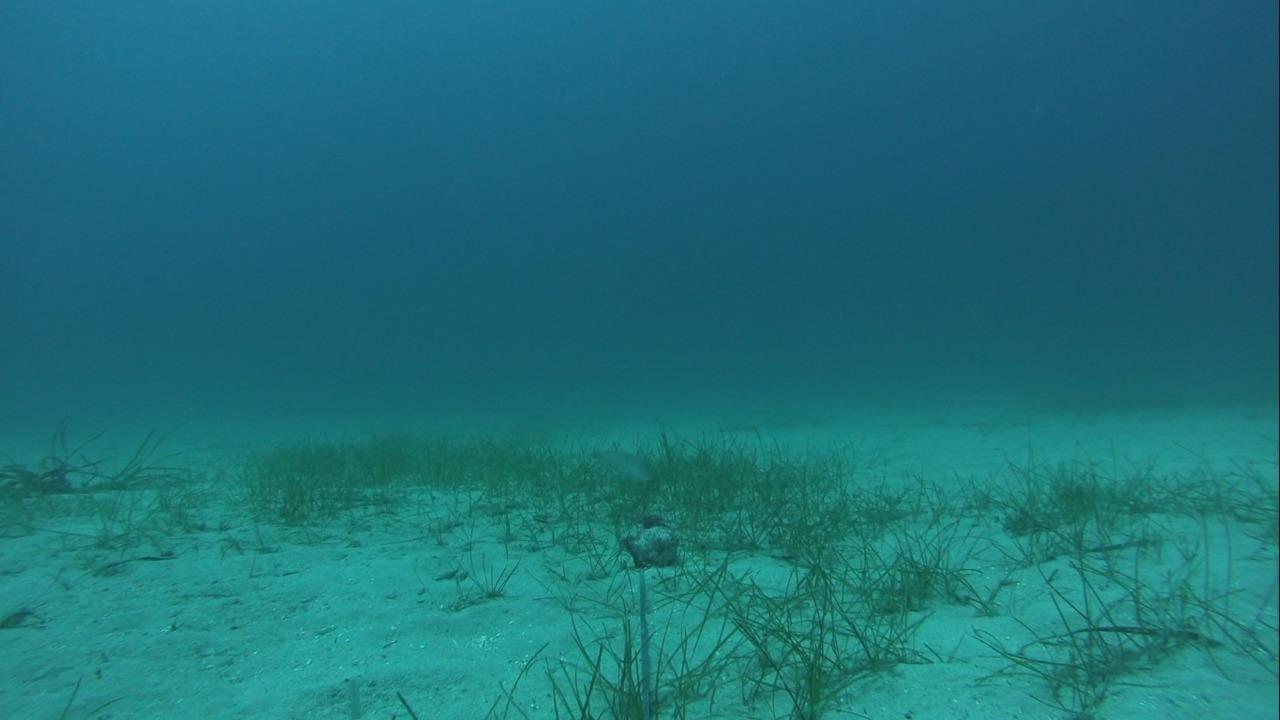raor: (582, 442, 659, 484)
